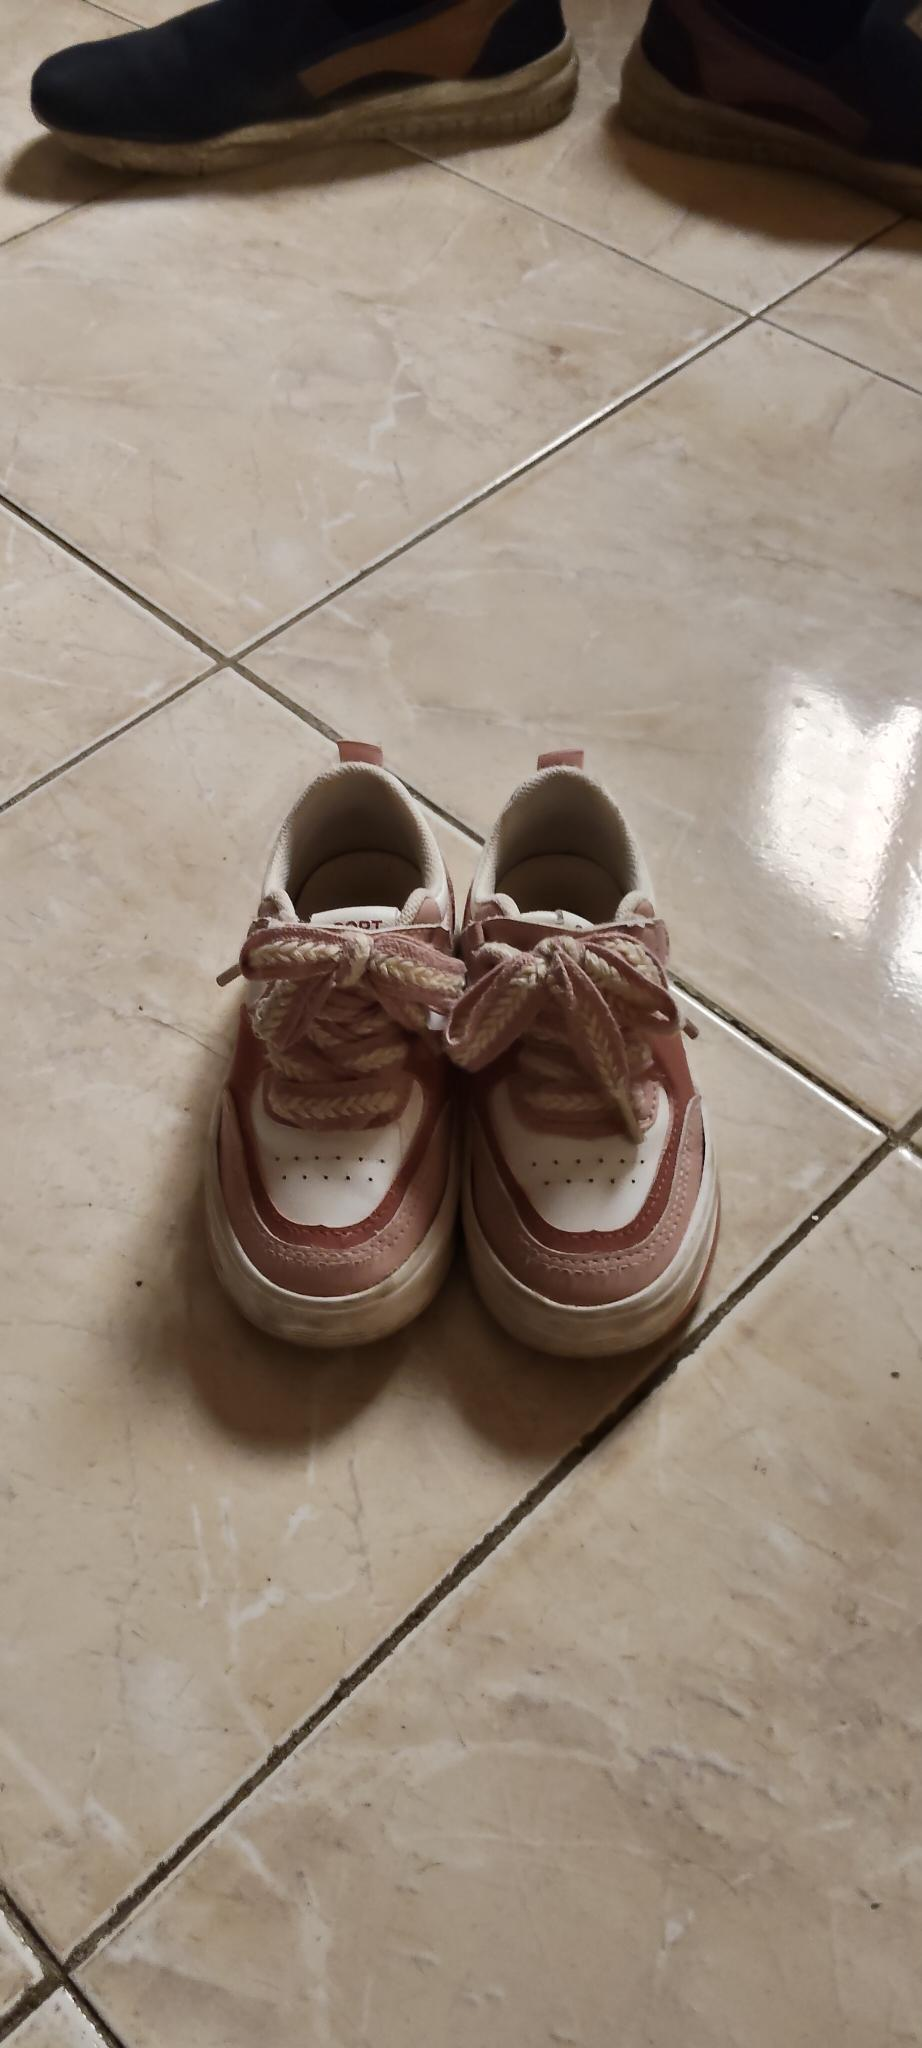Shoes: (442, 748, 723, 1353), (200, 739, 462, 1353), (30, 0, 580, 170), (618, 0, 921, 208)
